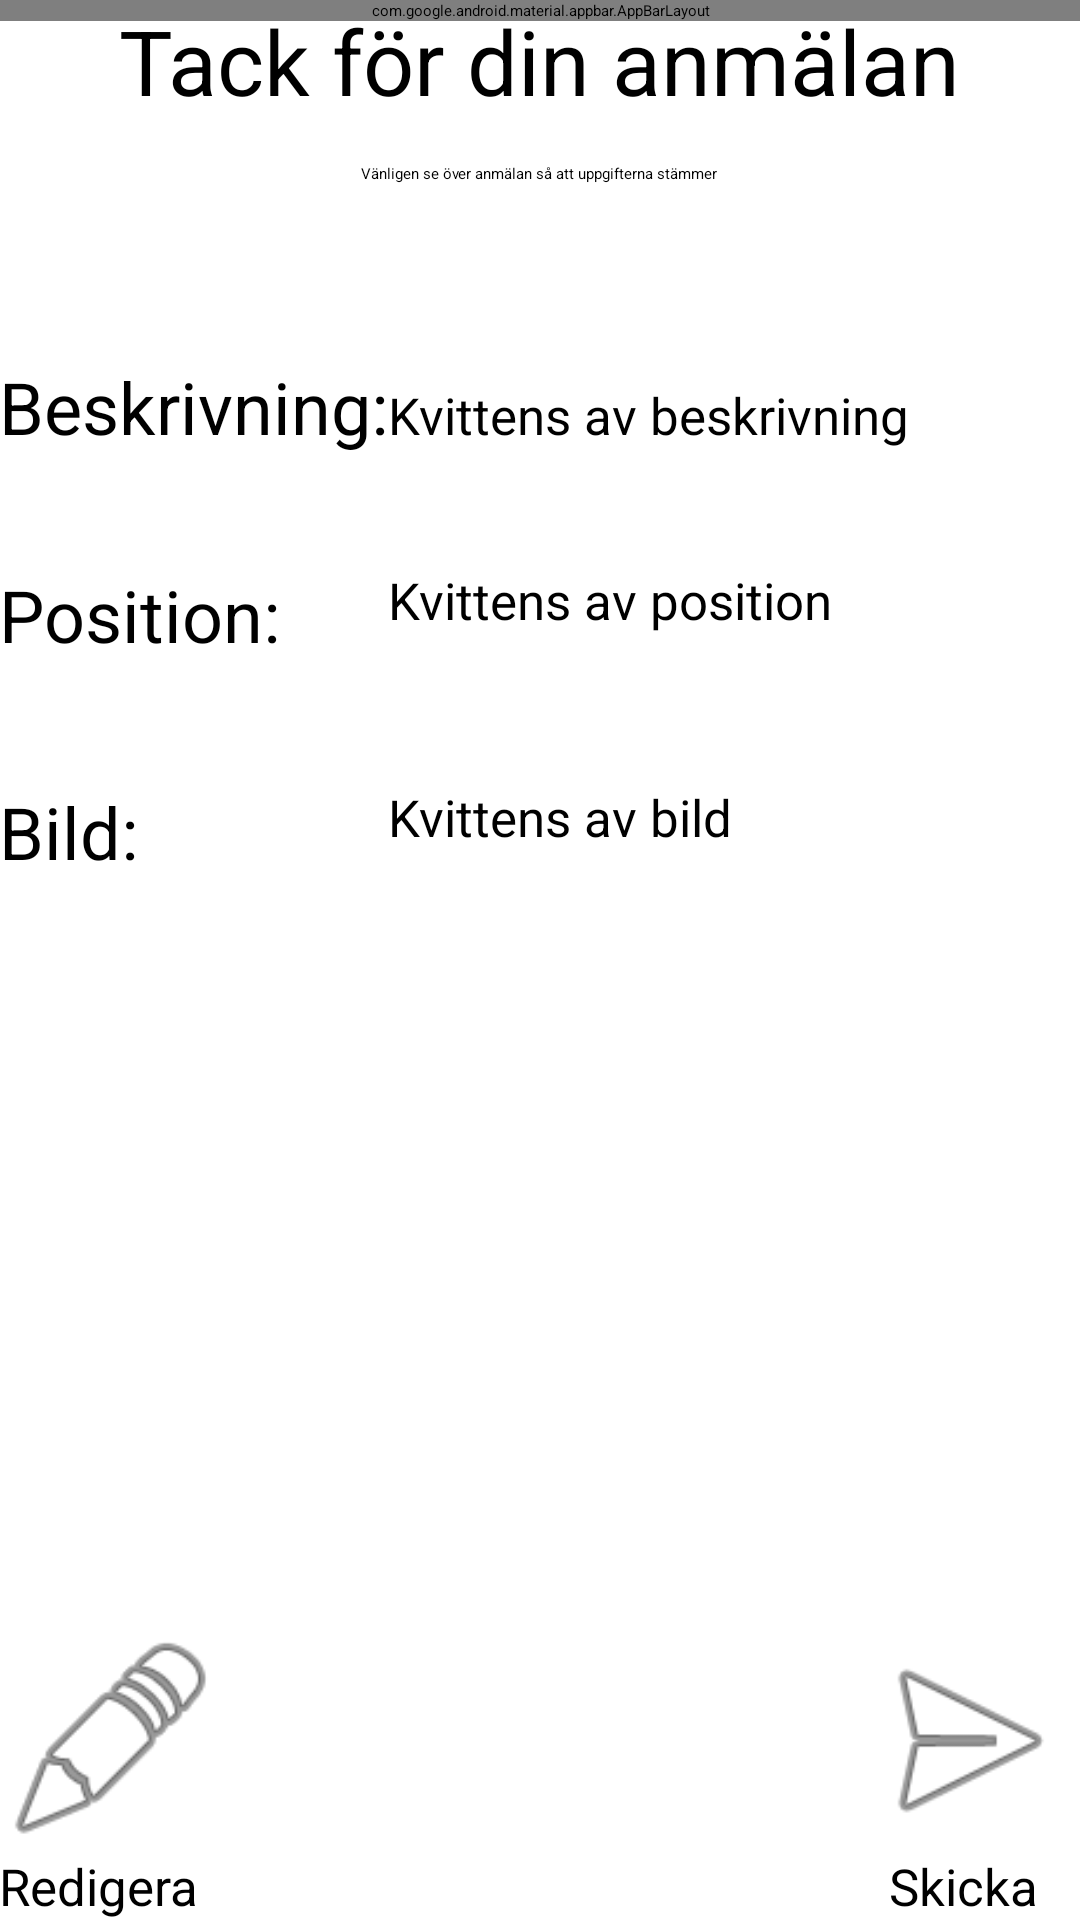

Icon click points for this 1080 × 1920 phone screenshot, format [x,y]:
send: [970,1740]
